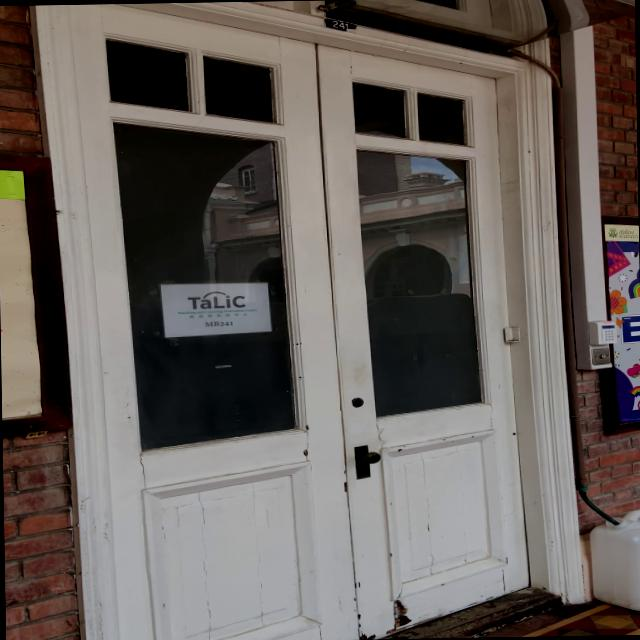room241: (319, 14, 361, 34)
